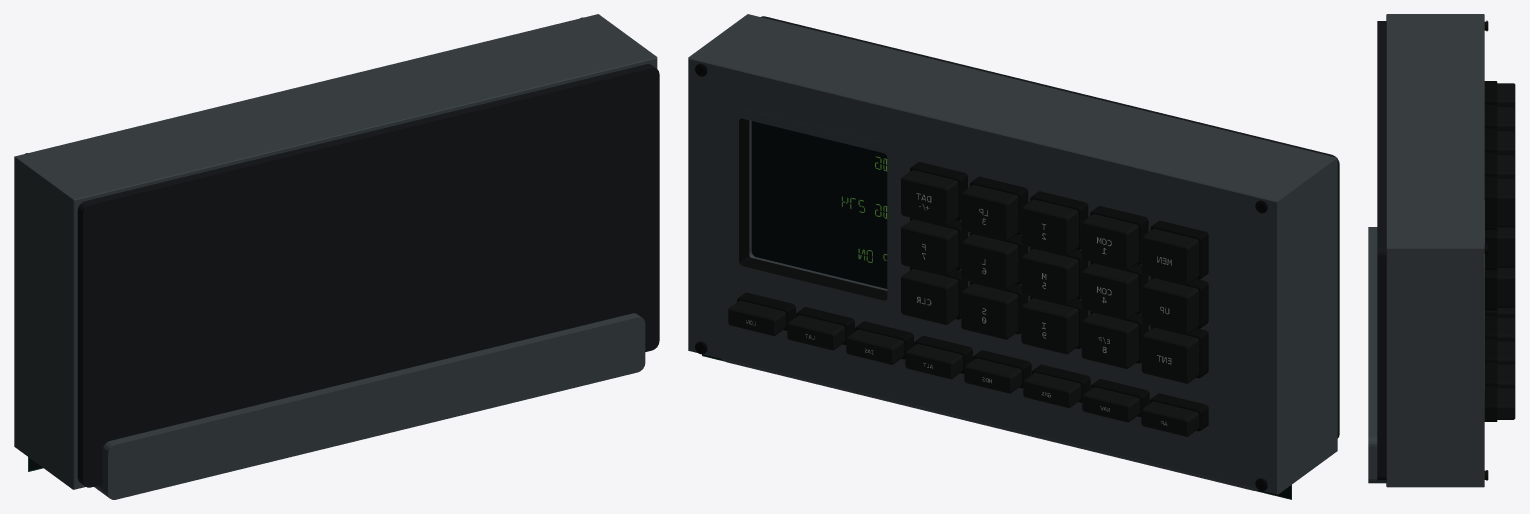
Rendered from MFDStudio.obj.
3 renders of one model, left to right at view 1: azimuth 30°, elevation 25°; view 2: azimuth 150°, elevation 25°; view 3: azimuth 270°, elevation 25°, orthographic. The views are drawn at different scales.
Visible parts, largest first — view 1: MFDStudioBody; view 2: MFDStudioBody, MFDStudioKeys0, MFDStudioKeys1, MFDStudioScreen, MFDStudioKeys2; view 3: MFDStudioBody, MFDStudioKeys0, MFDStudioKeys2, MFDStudioKeys1.
Boxes of the visible parts, x1,y1,x2,y2 form: MFDStudioBody: (14,14,659,499); MFDStudioBody: (688,14,1339,494); MFDStudioKeys0: (901,162,1208,334); MFDStudioKeys1: (901,217,1208,436); MFDStudioScreen: (702,121,1291,499); MFDStudioKeys2: (728,292,1149,422); MFDStudioBody: (1368,14,1484,487); MFDStudioKeys0: (1484,81,1515,229); MFDStudioKeys2: (1484,307,1515,421); MFDStudioKeys1: (1485,226,1515,310).
Size of the model in its own units: 0.31 by 0.155 by 0.0822.
Materials: 8 (1 with a texture image).
